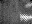person: (21, 11, 31, 21), (26, 1, 31, 5)
